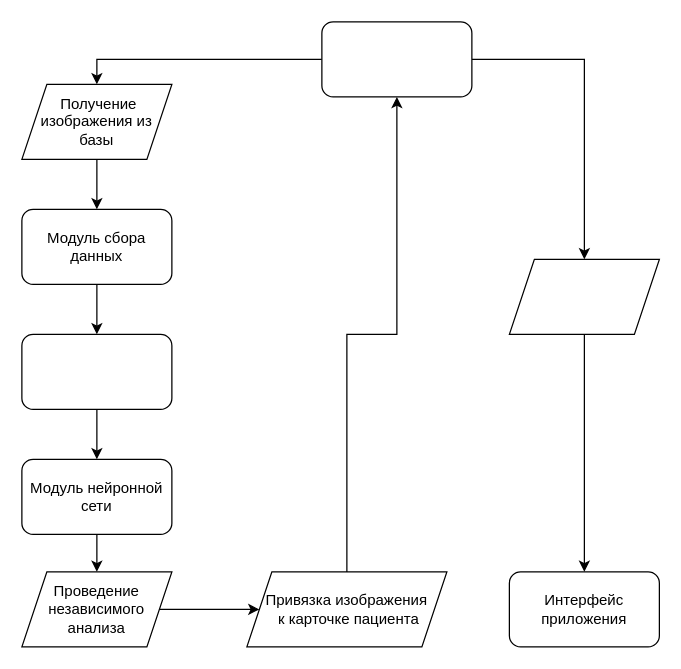
Some shapes in this 681 by 669 pixel diagram are drawn without their labels. The shapes that lost their labels are listed below. From the top down, each one's centre as x and y in pixels, then its label:
At point 396,59: "База данных приложения".
At point 583,296: "Получение данных о снимках".
At point 96,371: "Модуль предобработки изображений".
